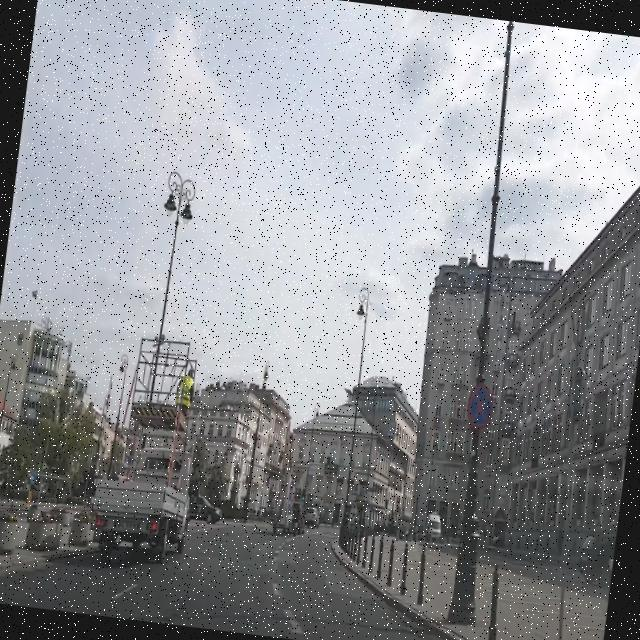Zakaz zatrzymywania sie: (463, 381, 496, 431)
